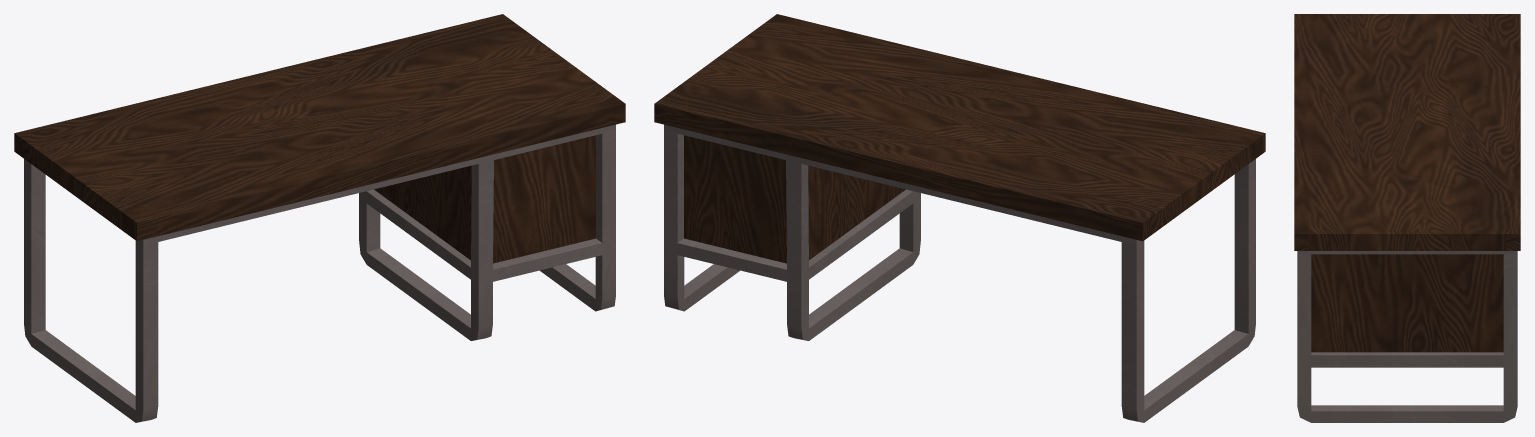
File: Table.glb
The picture shows the model from 3 angles, left to right: view 1: azimuth 30°, elevation 25°; view 2: azimuth 150°, elevation 25°; view 3: azimuth 270°, elevation 25°; orthographic projection. The views are drawn at different scales.
Visible parts, largest first — view 1: Table; view 2: Table; view 3: Table.
Boxes of the visible parts, bbox=[...] form: Table: bbox=[14, 14, 625, 422]; Table: bbox=[654, 14, 1265, 422]; Table: bbox=[1294, 14, 1520, 422].
Bounding box in the file's own units: 2.46 × 1.01 × 1.07.
2 materials, 2 textured.
